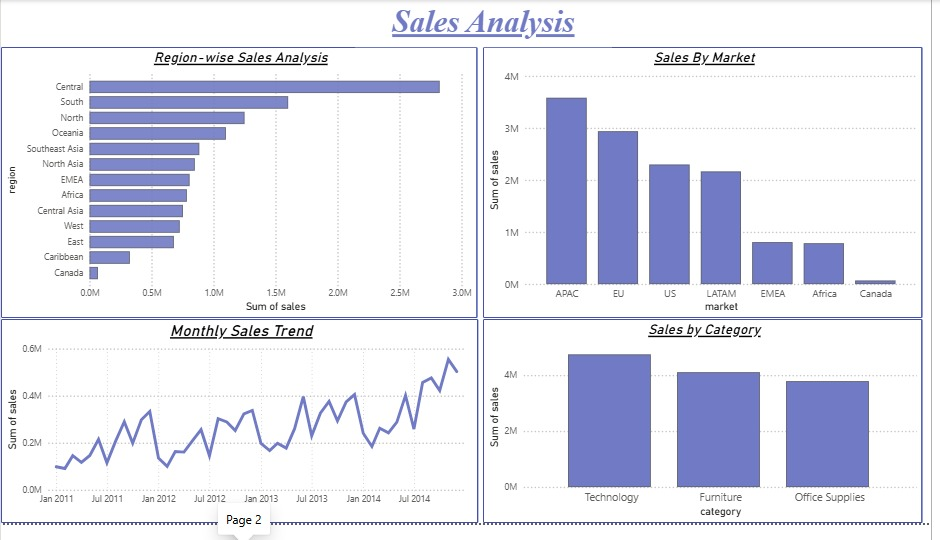

The page's visual inventory and layout, read from the dashboard file:
{"tool":"powerbi","page":{"name":"Page 2","canvas":[1280,720],"ordinal":1},"visuals":[{"type":"clusteredBarChart","title":"Region-wise Sales Analysis","fields":{"Category":["cleaned.region"],"Y":["Sum(cleaned.sales)"]},"box":[0,65.3,656,373.3],"z":0},{"type":"lineChart","title":"Monthly Sales Trend","fields":{"Y":["Sum(cleaned.sales)"],"Category":["cleaned.order_date.Variation.Date Hierarchy.Year","cleaned.order_date.Variation.Date Hierarchy.Month"]},"box":[0,438.7,657.3,281.3],"z":1000},{"type":"clusteredColumnChart","title":"Sales By Market","fields":{"Category":["cleaned.market"],"Y":["Sum(cleaned.sales)"]},"box":[664,65.3,605.3,373.3],"z":2000},{"type":"clusteredColumnChart","title":"Sales by Category","fields":{"Category":["cleaned.category"],"Y":["Sum(cleaned.sales)"]},"box":[664,438.7,605.3,281.3],"z":3000},{"type":"textbox","box":[486.7,0,353.3,65.3],"z":4000}]}

Visuals, with their boxes in screenshot pixels (x1, y1, x2, y2), scaled from the page's 1280x720 canvas onto the 940x540 screenshot:
"Region-wise Sales Analysis" clusteredBarChart: crop(0, 49, 482, 329)
"Monthly Sales Trend" lineChart: crop(0, 329, 483, 539)
"Sales By Market" clusteredColumnChart: crop(488, 49, 932, 329)
"Sales by Category" clusteredColumnChart: crop(488, 329, 932, 539)
textbox: crop(357, 0, 617, 49)
